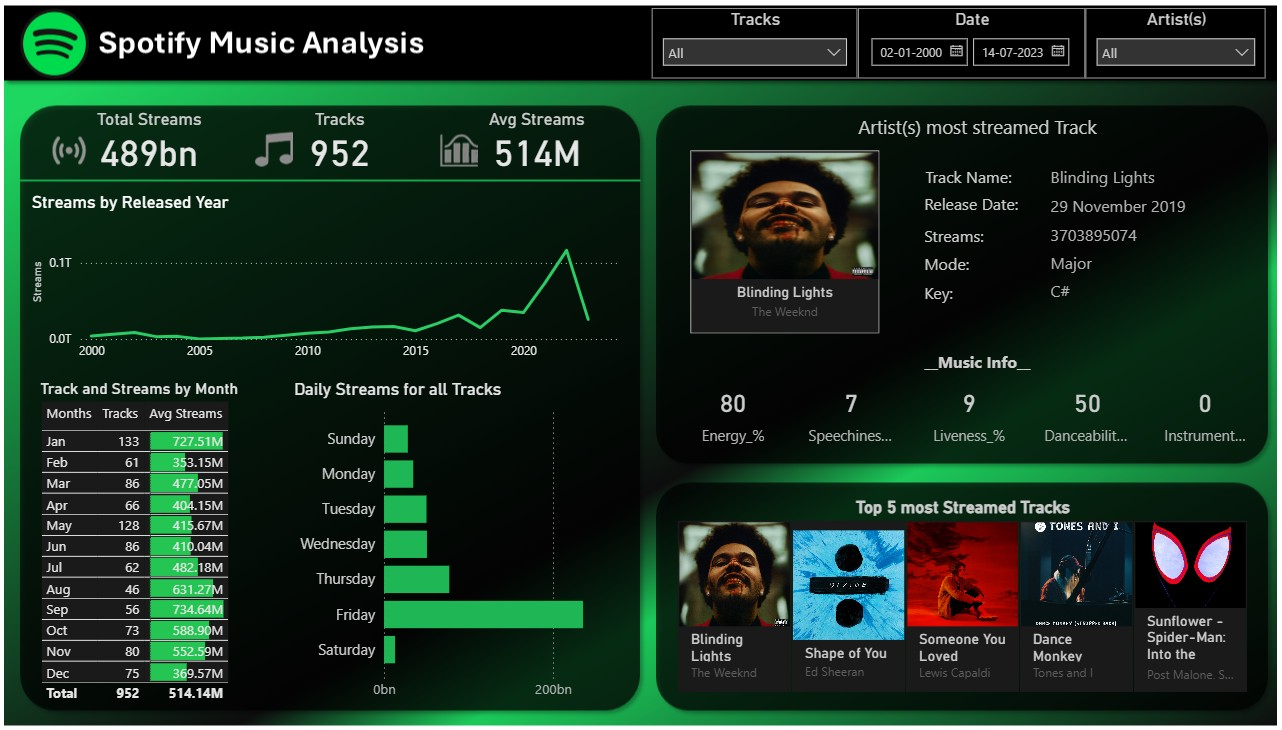

What the dashboard file says about the page in this screenshot:
{"tool":"powerbi","page":{"name":"Page 1","canvas":[1440,820],"ordinal":0},"visuals":[{"type":"card","title":"Total Streams","fields":{"Values":["Sum(spotify-dataset.streams)"]},"box":[168.2,150.9,125,62.3],"z":0},{"type":"card","title":"Avg Streams","fields":{"Values":["Avg(spotify-dataset.streams)"]},"box":[556.4,150.9,125,62.3],"z":1000},{"type":"card","title":"Tracks","fields":{"Values":["CountNonNull(spotify-dataset.track_name)"]},"box":[361,150.6,120.8,62.3],"z":2000},{"type":"tableEx","title":"Track and Streams by Month","fields":{"Values":["PLANNER.MonthName","spotify-dataset.track_name","Avg(spotify-dataset.streams)"]},"box":[117.9,421.4,253.6,330],"z":3000},{"type":"clusteredBarChart","title":"Daily Streams for all Tracks","fields":{"Y":["Sum(spotify-dataset.streams)"],"Category":["PLANNER.DayName"]},"box":[371.2,421.2,372.5,330],"z":4000},{"type":"textbox","box":[908.9,151.1,301.1,36.7],"z":5000},{"type":"advancedSlicerVisual","fields":{"Values":["spotify-dataset.track_name"]},"box":[767,188,199,193],"z":6000},{"type":"multiRowCard","fields":{"Values":["spotify-dataset.track_name","spotify-dataset.Date","Sum(spotify-dataset.streams)","spotify-dataset.mode","spotify-dataset.key"]},"box":[1127,202,154,146],"z":7000},{"type":"textbox","box":[1002.2,202.2,110,32.2],"z":8000},{"type":"textbox","box":[1001.7,230.6,140,32.2],"z":9000},{"type":"textbox","box":[1001.6,261.6,102.6,32.6],"z":10000},{"type":"textbox","box":[1001.6,318.9,102.6,32.6],"z":11000},{"type":"textbox","box":[1001.1,290.5,103.2,32.1],"z":12000},{"type":"cardVisual","fields":{"Data":["Sum(spotify-dataset.energy_%)","Sum(spotify-dataset.speechiness_%)","Sum(spotify-dataset.liveness_%)","Sum(spotify-dataset.danceability_%)","Sum(spotify-dataset.instrumentalness_%)"]},"box":[754.4,414.4,593.3,87.8],"z":13000},{"type":"textbox","box":[994.4,387.8,128.9,33.3],"z":14000},{"type":"advancedSlicerVisual","title":"Top 5 most Streamed Tracks","fields":{"Values":["spotify-dataset.track_name"]},"box":[754.4,538.9,580,201.1],"z":15000},{"type":"slicer","title":"Tracks","fields":{"Values":["spotify-dataset.track_name"]},"box":[734.3,50,205.7,70],"z":16000},{"type":"slicer","title":"Date","fields":{"Values":["PLANNER.Date"]},"box":[940,50,227.1,70],"z":17000},{"type":"slicer","title":"Artist(s)","fields":{"Values":["spotify-dataset.artist(s)_name"]},"box":[1167.1,50,180,70],"z":18000},{"type":"lineChart","title":"Streams by Released Year","fields":{"Category":["PLANNER.Year"],"Y":["Sum(spotify-dataset.streams)"]},"box":[108.8,233.8,601.2,177.5],"z":19000}]}

Visuals, with their boxes in screenshot pixels (x1, y1, x2, y2), scaled from the page's 1440x820 canvas onto the 1282x730 screenshot:
"Total Streams" card: [150, 134, 261, 190]
"Avg Streams" card: [495, 134, 607, 190]
"Tracks" card: [321, 134, 429, 190]
"Track and Streams by Month" tableEx: [105, 375, 331, 669]
"Daily Streams for all Tracks" clusteredBarChart: [330, 375, 662, 669]
textbox: [809, 135, 1077, 167]
advancedSlicerVisual - spotify-dataset.track_name: [683, 167, 860, 339]
multiRowCard - spotify-dataset.track_name x spotify-dataset.Date: [1003, 180, 1140, 310]
textbox: [892, 180, 990, 209]
textbox: [892, 205, 1016, 234]
textbox: [892, 233, 983, 262]
textbox: [892, 284, 983, 313]
textbox: [891, 259, 983, 287]
cardVisual - Sum(spotify-dataset.energy_%) x Sum(spotify-dataset.speechiness_%): [672, 369, 1200, 447]
textbox: [885, 345, 1000, 375]
"Top 5 most Streamed Tracks" advancedSlicerVisual: [672, 480, 1188, 659]
"Tracks" slicer: [654, 45, 837, 107]
"Date" slicer: [837, 45, 1039, 107]
"Artist(s)" slicer: [1039, 45, 1199, 107]
"Streams by Released Year" lineChart: [97, 208, 632, 366]
